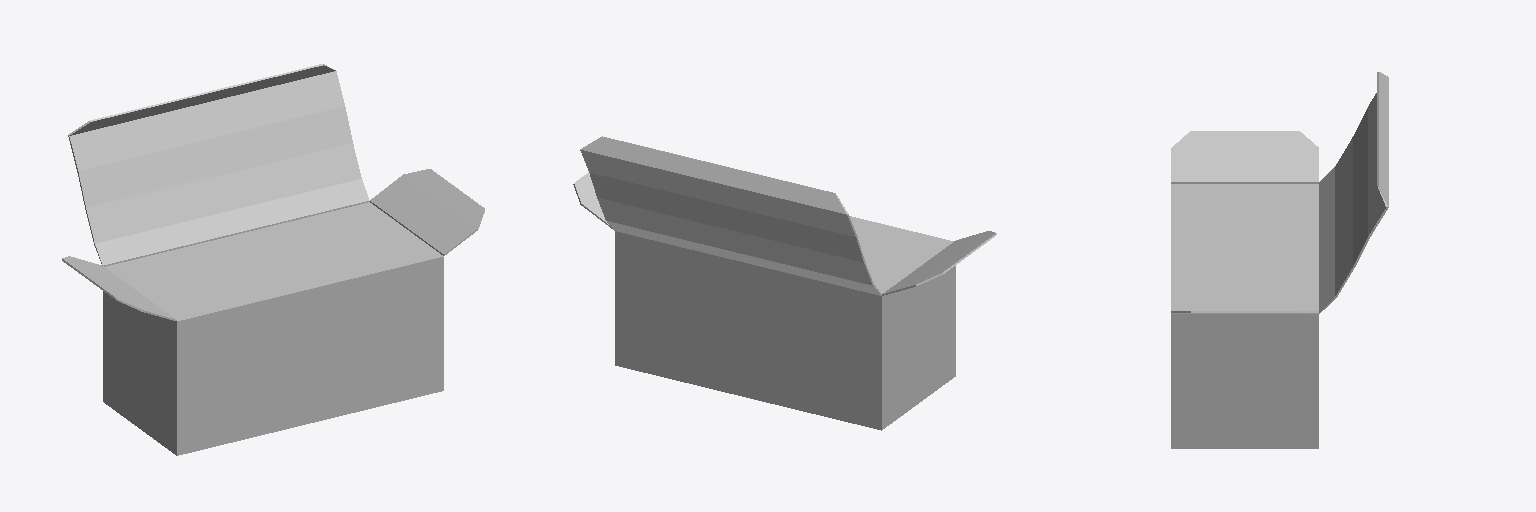
File: ammo_box_mp_2.obj
The picture shows the model from 3 angles: view 1: azimuth 30°, elevation 25°; view 2: azimuth 150°, elevation 25°; view 3: azimuth 270°, elevation 25°; orthographic projection.
Parts seen in each view (by area): view 1: ammo_box_mp_2; view 2: ammo_box_mp_2; view 3: ammo_box_mp_2.
Boxes of the visible parts, <box> form: ammo_box_mp_2: <box>62,64,484,455</box>; ammo_box_mp_2: <box>573,136,996,430</box>; ammo_box_mp_2: <box>1171,72,1388,448</box>.
Size of the model in its own units: 0.2159 by 0.1424 by 0.1101.